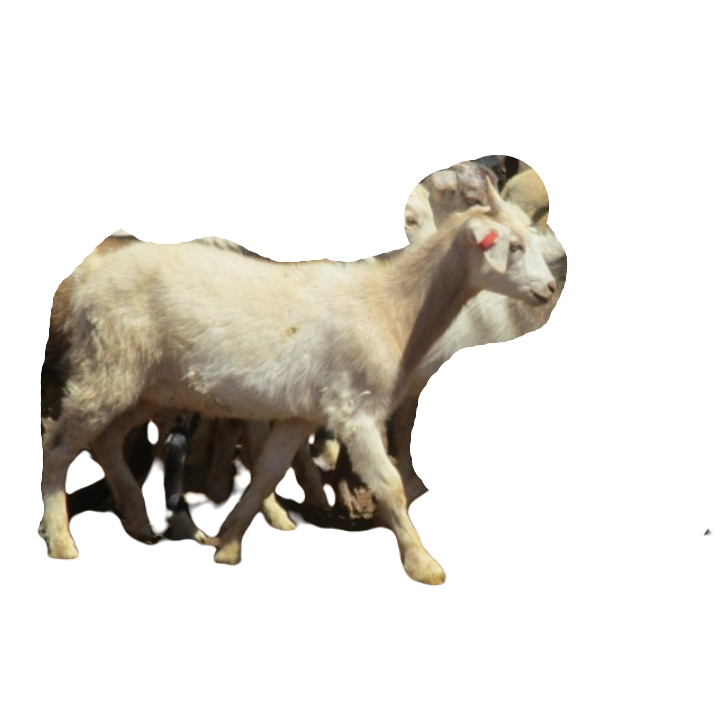Goat: (36, 176, 557, 584)
